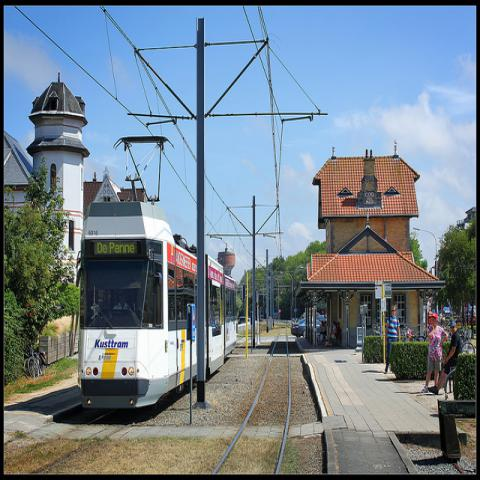car: (290, 317, 322, 340)
